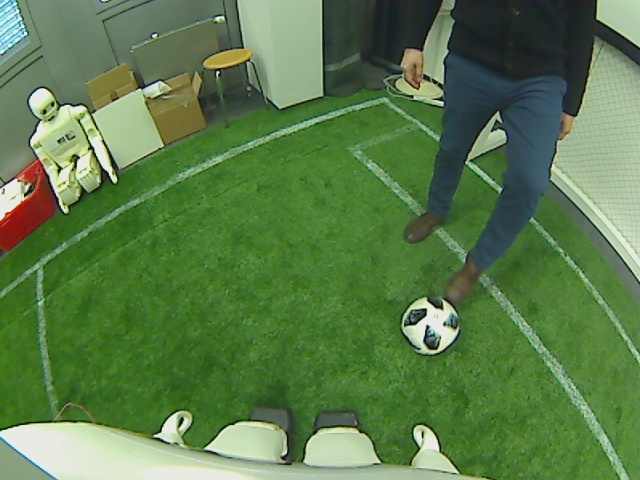ball: (399, 294, 460, 357)
